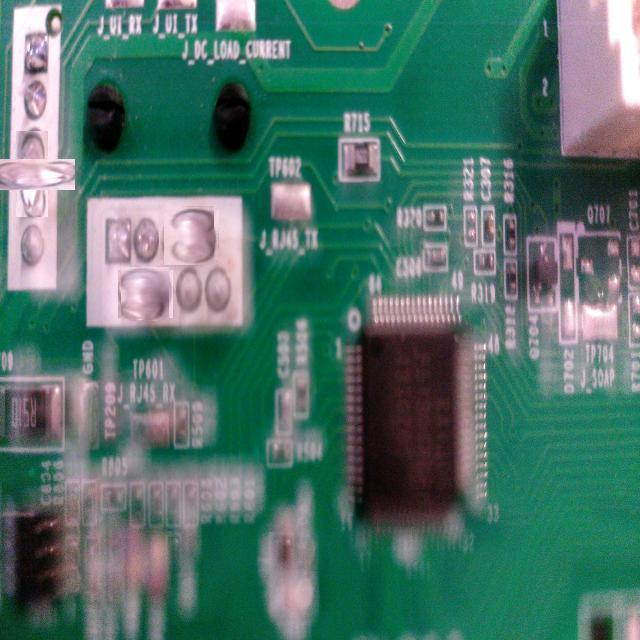Short_circuit: (3, 145, 62, 204), (162, 208, 216, 263), (120, 268, 171, 320)
